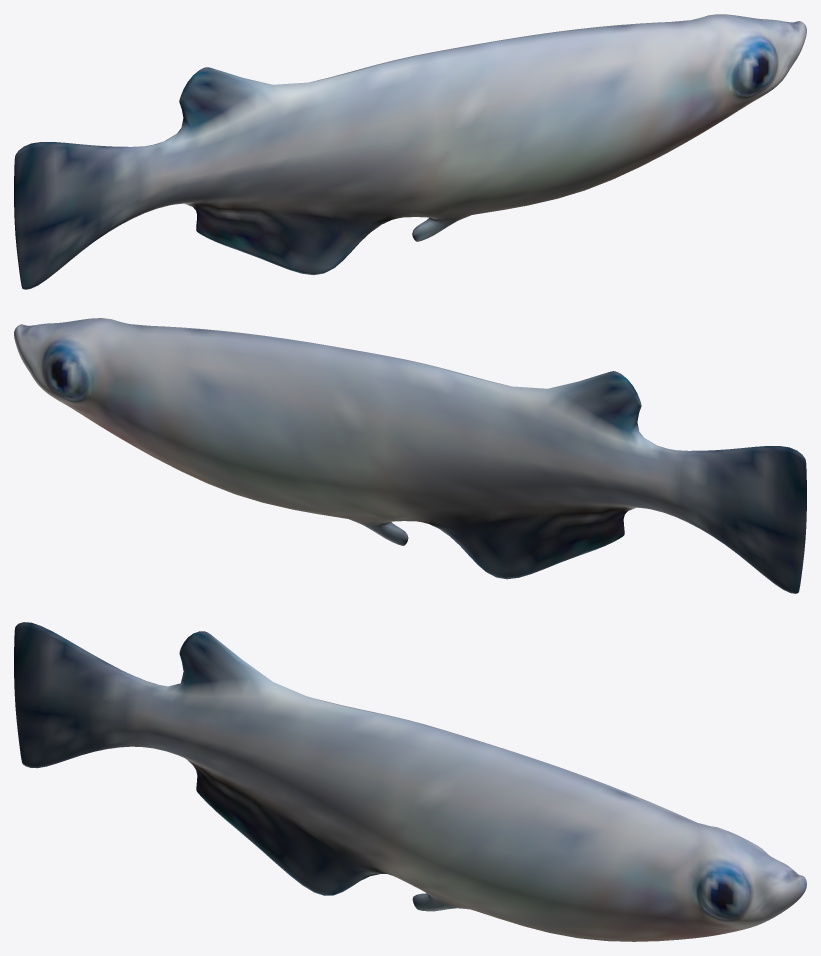
Rendered from fish-ca-madeka.glb.
The picture shows the model from 3 angles, top to bottom: view 1: azimuth 30°, elevation 25°; view 2: azimuth 150°, elevation 25°; view 3: azimuth 330°, elevation 25°; orthographic projection.
Parts seen in each view (by area): view 1: body; view 2: body; view 3: body.
Part boxes in pixels (box(x1,y1,x2,y2)): body: box(14, 14, 806, 289); body: box(14, 318, 806, 593); body: box(14, 622, 806, 941).
Bounding box in the file's own units: 1 × 0.2839 × 0.1073.
